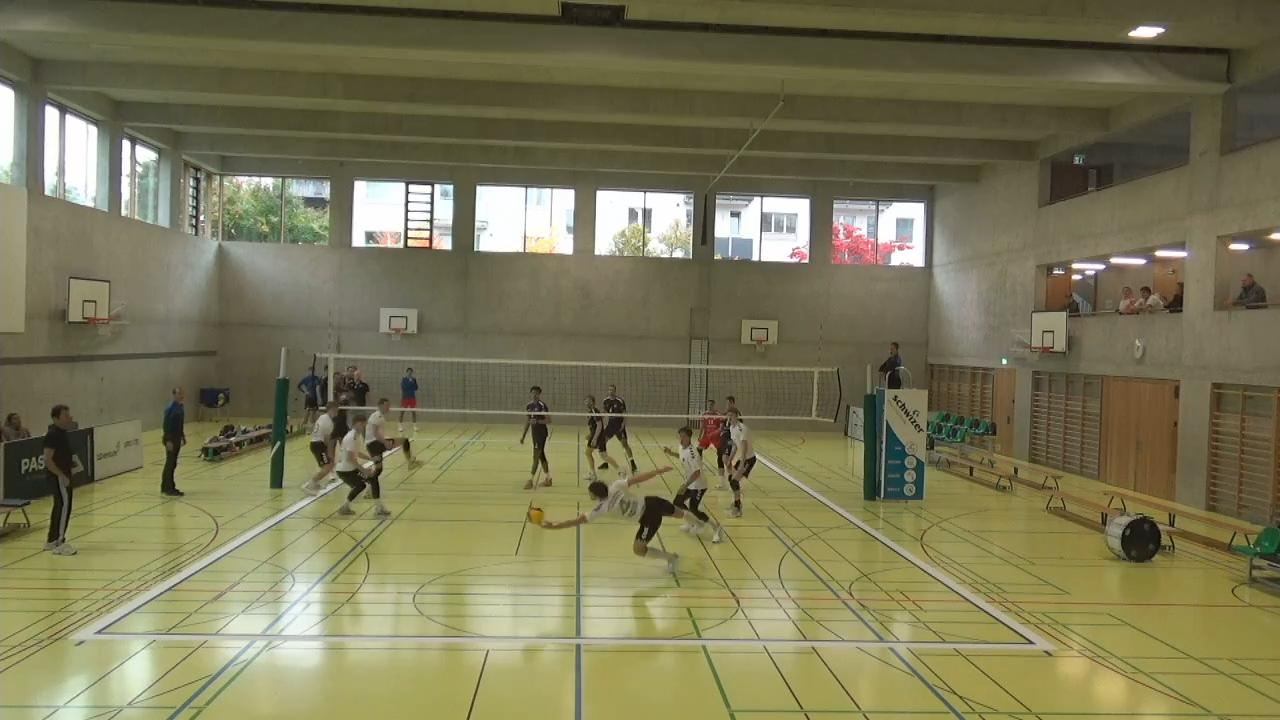difesa: (522, 462, 727, 552)
